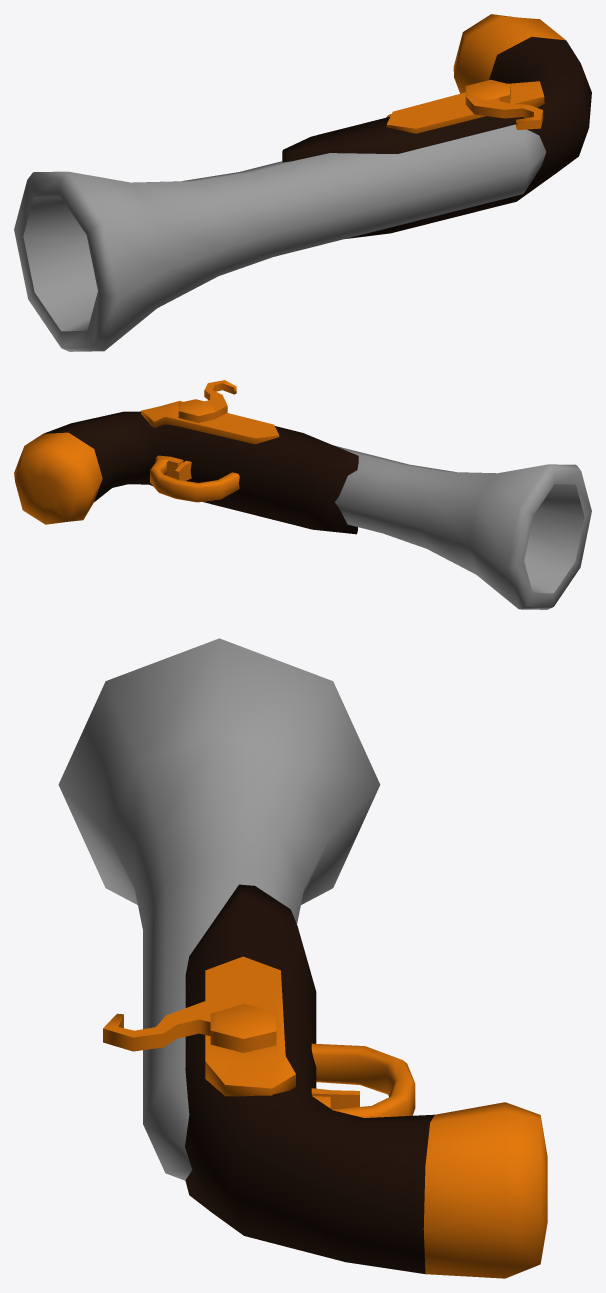
Rendered from Flintlock.FBX.
3 views of the same model, one above another, from view 1: azimuth 30°, elevation 25°; view 2: azimuth 150°, elevation 25°; view 3: azimuth 270°, elevation 25° (orthographic). The views are drawn at different scales.
Visible parts, largest first — view 1: Gun; view 2: Gun; view 3: Gun.
Part boxes in pixels (box(x1,y1,x2,y2)): Gun: box(14, 14, 591, 351); Gun: box(14, 380, 591, 609); Gun: box(58, 638, 547, 1278).
Bounding box in the file's own units: 21.4 × 6.35 × 9.65.
